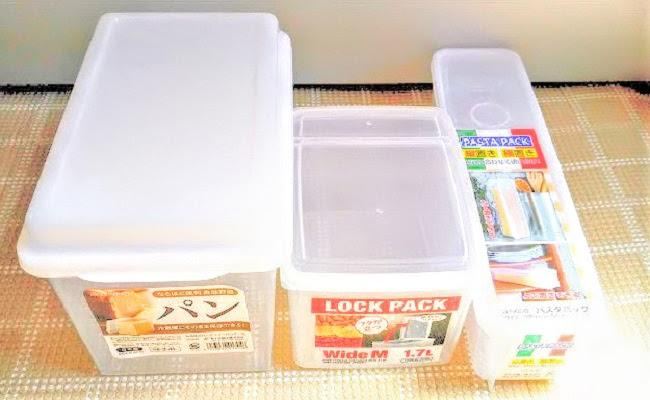plastic: (17, 13, 292, 374), (432, 49, 595, 386), (277, 107, 473, 368), (80, 273, 275, 373)
